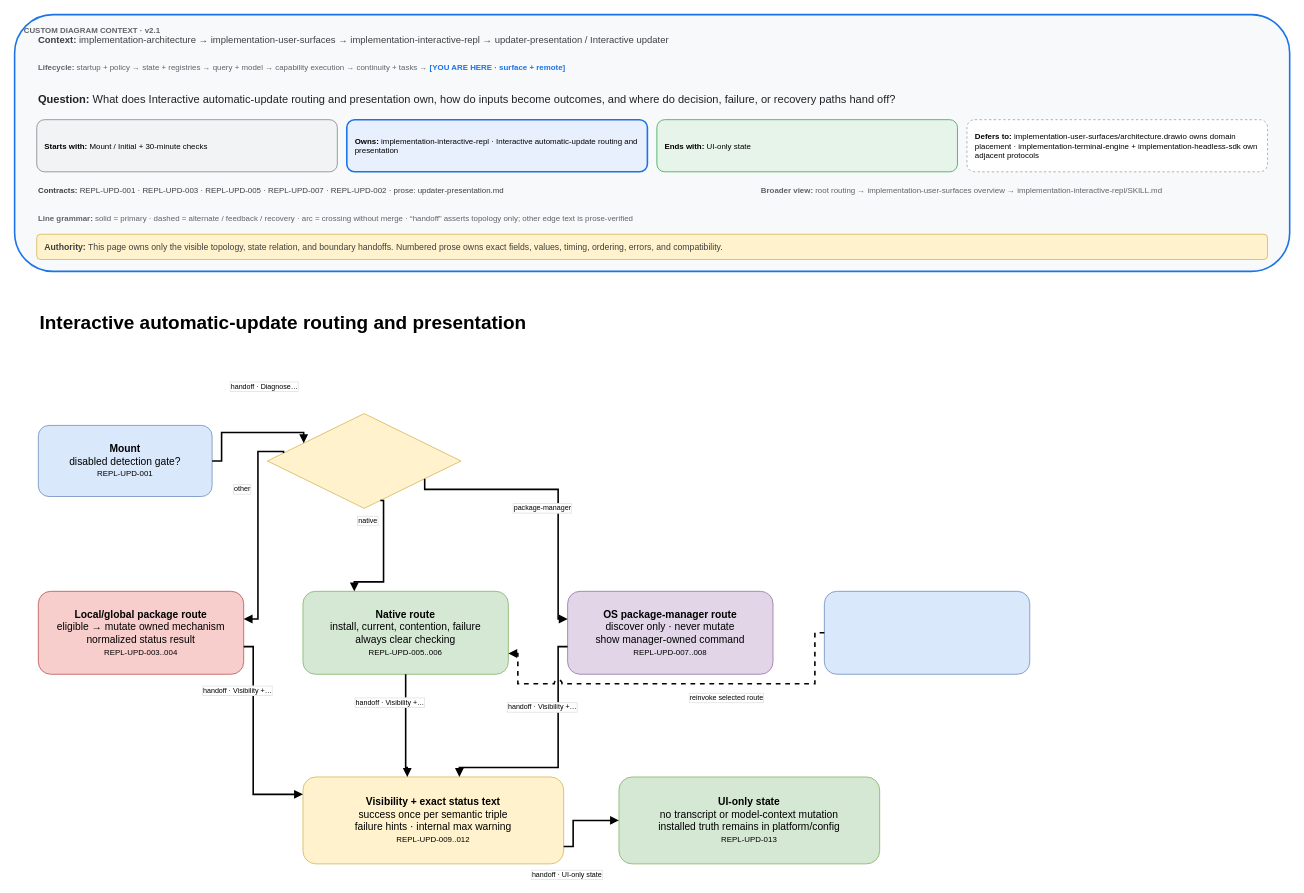
Some shapes in this 1304 by 893 pixel diagram are drawn without their labels. The shapes that lost their labels are listed below. From the top down, each one's centre as x and y in pixels, then its label:
[364,460]: Diagnose executing install unresolved state renders nothing
[927,632]: Initial + 30-minute checks stable callback reads live checking flag REPL-UPD-002
